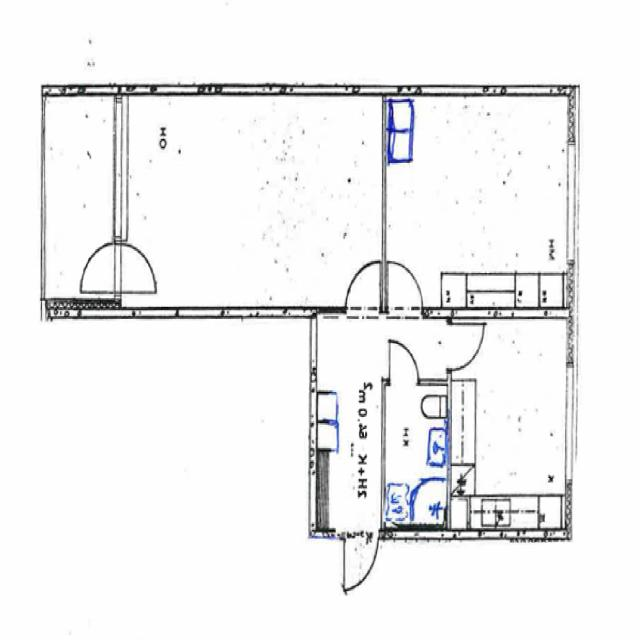door: (113, 244, 156, 292), (79, 244, 122, 292), (344, 530, 378, 586), (390, 262, 422, 317), (348, 264, 380, 318), (447, 324, 483, 368), (390, 340, 418, 386)
